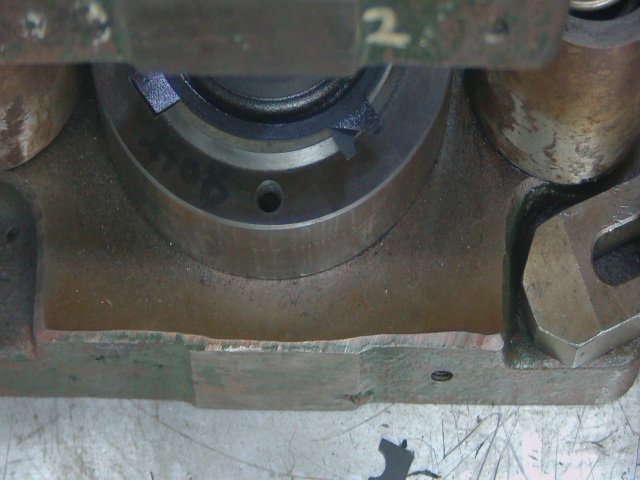OK: (329, 101, 398, 169)
